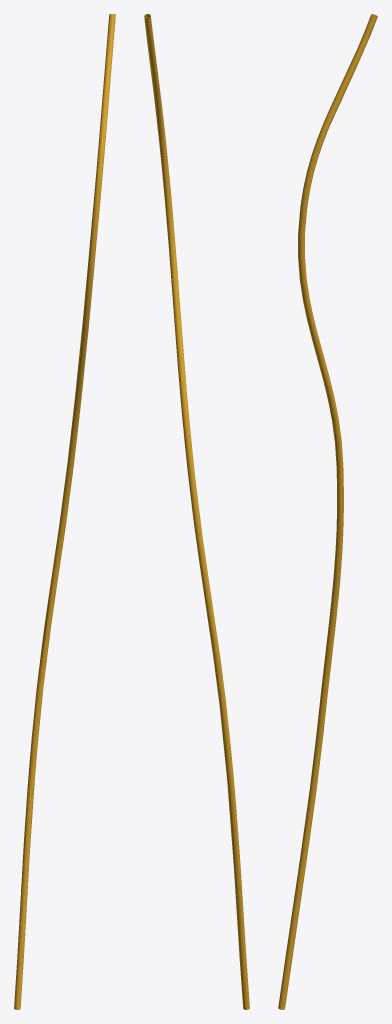
Rendered from nervoso-posterior-branch-of-obturator-nerve-r.glb.
3 views of the same model, side by side, from view 1: azimuth 30°, elevation 25°; view 2: azimuth 210°, elevation 25°; view 3: azimuth 330°, elevation 25° (orthographic). The views are drawn at different scales.
Parts seen in each view (by area): view 1: Posterior branch of obturator nerve.r; view 2: Posterior branch of obturator nerve.r; view 3: Posterior branch of obturator nerve.r.
Boxes of the visible parts, bbox=[...] form: Posterior branch of obturator nerve.r: bbox=[14, 14, 115, 1009]; Posterior branch of obturator nerve.r: bbox=[144, 14, 249, 1009]; Posterior branch of obturator nerve.r: bbox=[278, 14, 377, 1009].
Size of the model in its own units: 0.0166 by 0.159 by 0.0121.
